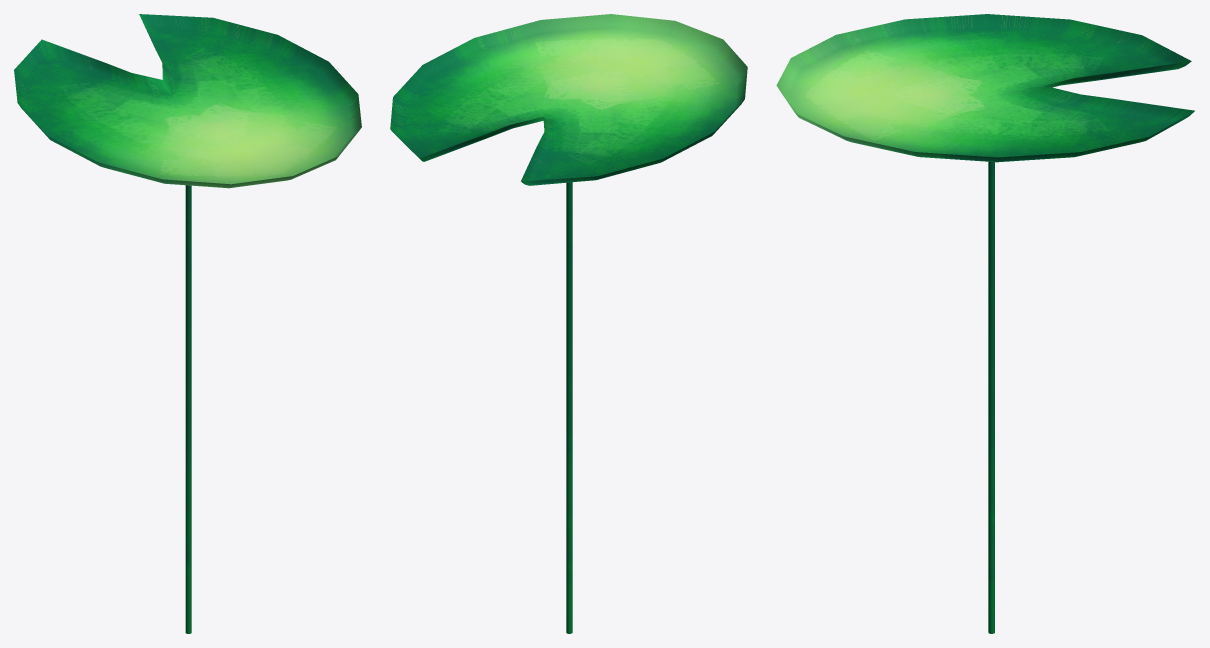
File: Lilypad.fbx
3 renders of one model, left to right at view 1: azimuth 30°, elevation 25°; view 2: azimuth 150°, elevation 25°; view 3: azimuth 270°, elevation 25°, orthographic. The views are drawn at different scales.
Visible parts, largest first — view 1: Lilypad; view 2: Lilypad; view 3: Lilypad.
Boxes of the visible parts, box(x1,y1,x2,y2) form: Lilypad: box(14, 14, 361, 633); Lilypad: box(390, 14, 747, 633); Lilypad: box(776, 14, 1194, 633).
Bounding box in the file's own units: 0.1368 × 0.243 × 0.1688.
